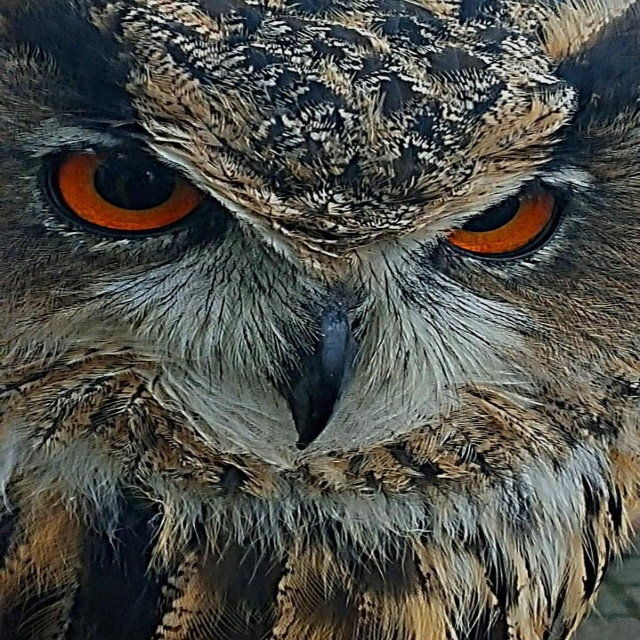Owl: (0, 0, 633, 639)
